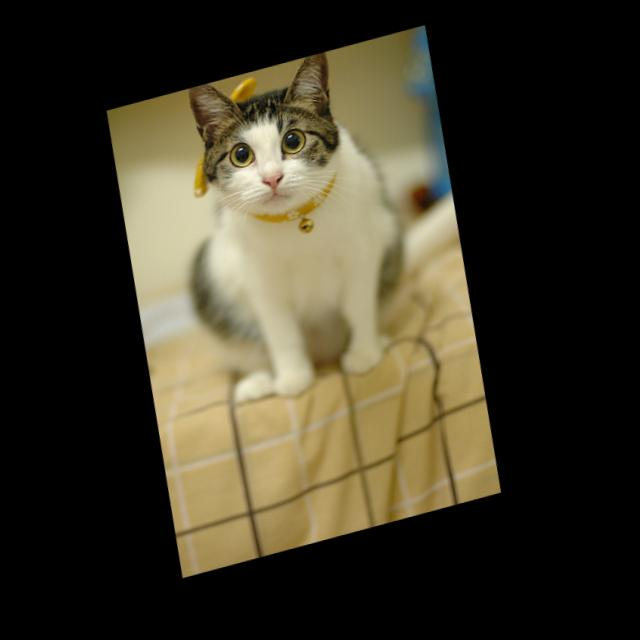animals: (187, 55, 346, 208)
